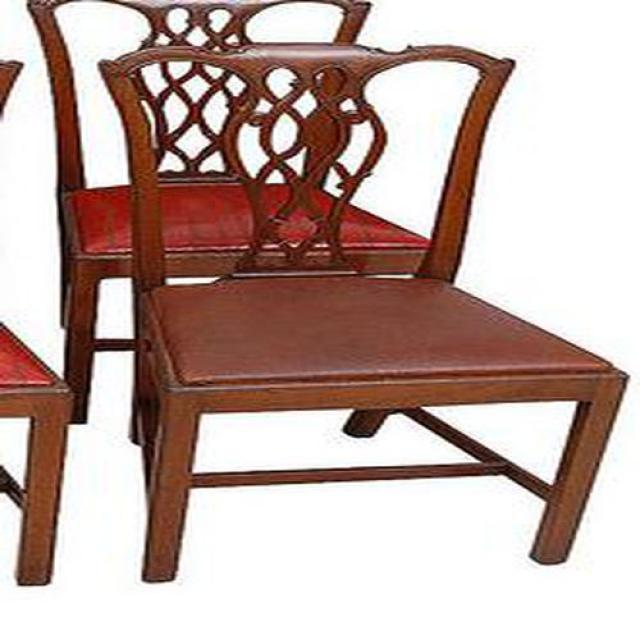chair: (97, 45, 631, 586)
